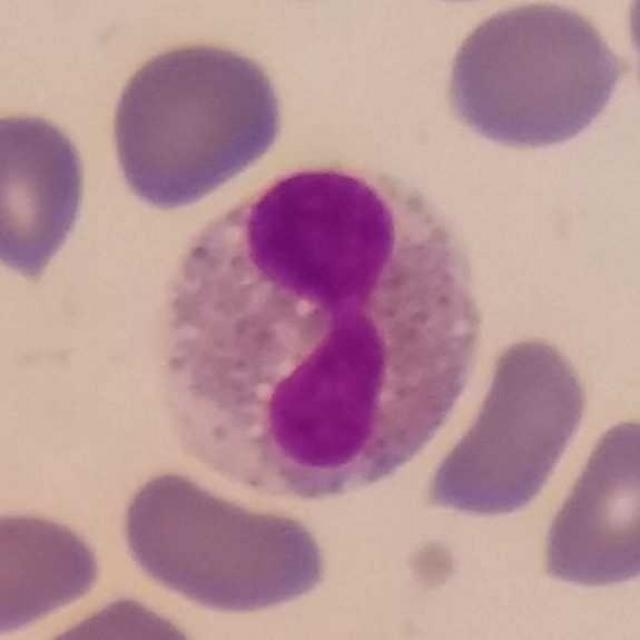Neutrophil: (136, 148, 487, 502)
Platelets: (401, 538, 466, 597)
RBC: (112, 462, 335, 618), (420, 328, 594, 524), (103, 33, 290, 214), (440, 1, 629, 156), (535, 410, 640, 596), (0, 104, 95, 282), (0, 501, 108, 640), (8, 590, 217, 640)
